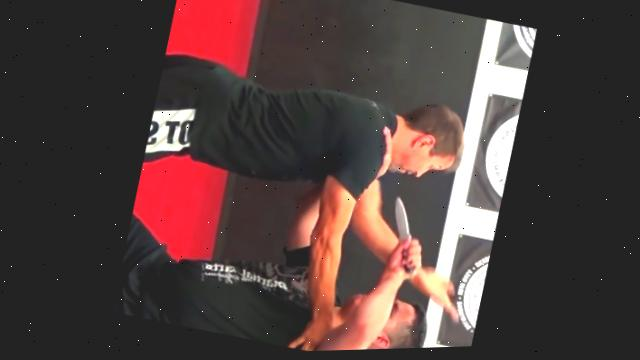pocket-knife: (372, 198, 435, 284)
